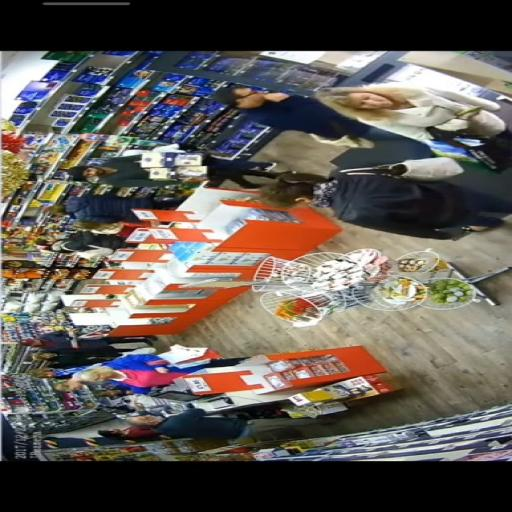workers: (61, 152, 277, 188), (65, 354, 223, 398), (36, 230, 134, 262)
